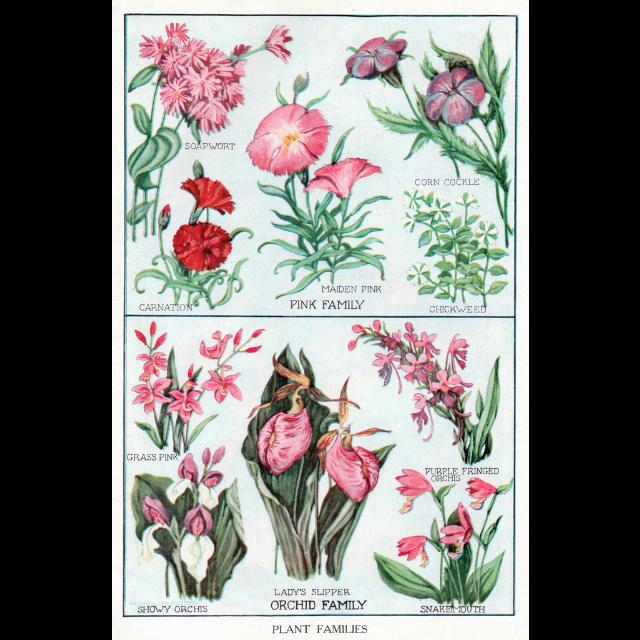Flower: (349, 317, 469, 445), (125, 322, 265, 421), (138, 20, 252, 130), (139, 438, 225, 582), (242, 352, 314, 480), (314, 380, 388, 502), (248, 93, 338, 167), (301, 152, 385, 202), (427, 65, 487, 127), (173, 218, 233, 272), (347, 31, 405, 77), (178, 171, 236, 215), (395, 464, 429, 512), (262, 22, 294, 64), (438, 504, 470, 546), (464, 474, 492, 512), (392, 537, 426, 567), (158, 206, 166, 228)
